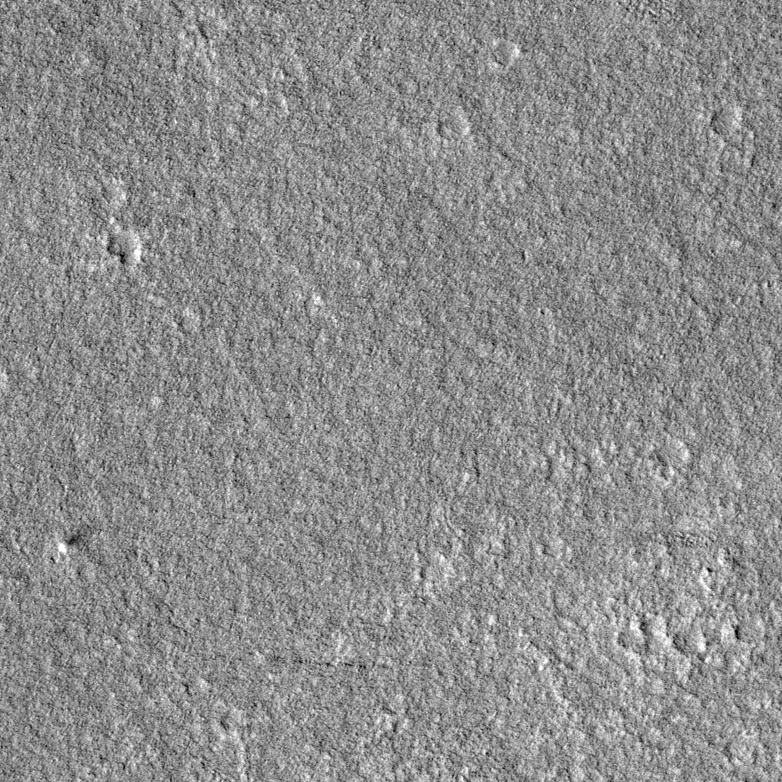dust_devil: (57, 515, 101, 556)
